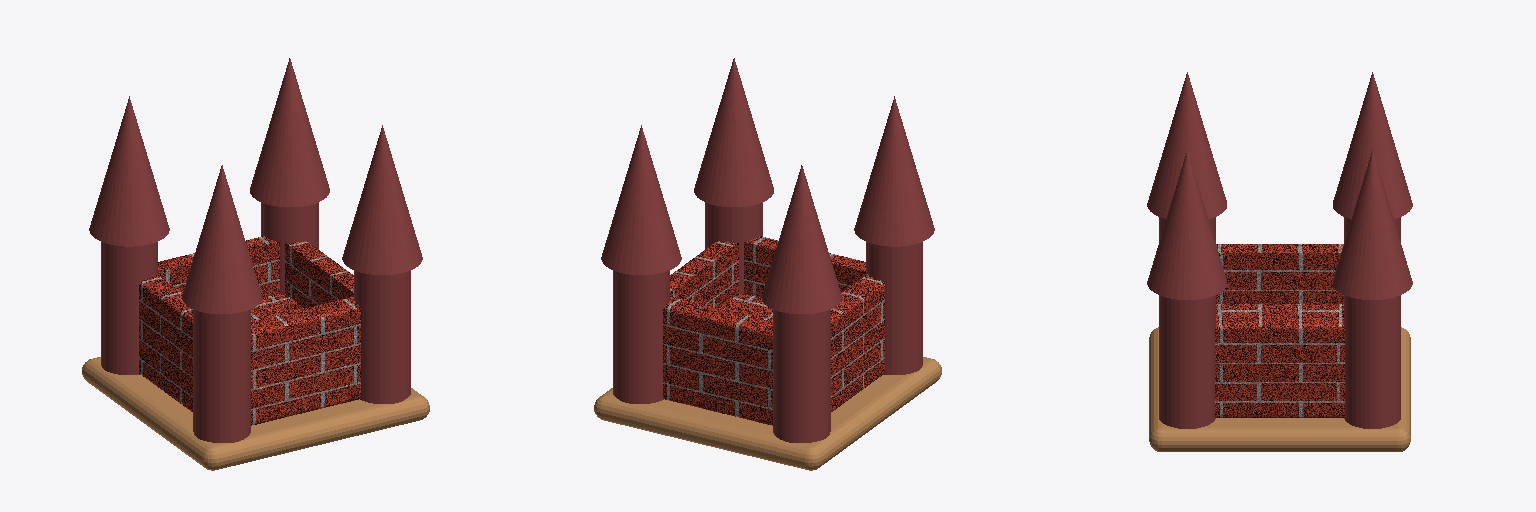
The picture shows the model from 3 angles: view 1: azimuth 30°, elevation 25°; view 2: azimuth 150°, elevation 25°; view 3: azimuth 270°, elevation 25°; orthographic projection.
Parts seen in each view (by area): view 1: 立方体.1, 圆锥.1.4, 圆锥.1.3, 圆锥.1.1, 立方体, 圆锥.1.2; view 2: 立方体.1, 圆锥.1.1, 圆锥.1.2, 圆锥.1.4, 立方体, 圆锥.1.3; view 3: 立方体.1, 圆锥.1.3, 圆锥.1.2, 立方体, 圆锥.1.4, 圆锥.1.1.
Part boxes in pixels (x1,y1,x2,y2): 立方体.1: (139,236,360,425); 圆锥.1.4: (182,165,261,442); 圆锥.1.3: (342,125,422,403); 圆锥.1.1: (89,96,169,374); 立方体: (82,357,429,470); 圆锥.1.2: (250,58,329,293); 立方体.1: (663,236,884,425); 圆锥.1.1: (762,165,841,442); 圆锥.1.2: (601,125,681,403); 圆锥.1.4: (854,96,934,374); 立方体: (594,357,941,470); 圆锥.1.3: (694,58,773,293); 立方体.1: (1215,244,1344,417); 圆锥.1.3: (1147,150,1226,428); 圆锥.1.2: (1333,150,1412,428); 立方体: (1149,327,1410,451); 圆锥.1.4: (1147,72,1226,241); 圆锥.1.1: (1333,72,1412,241).
Bounding box in the file's own units: 203 × 245 × 203.
3 materials, 1 textured.